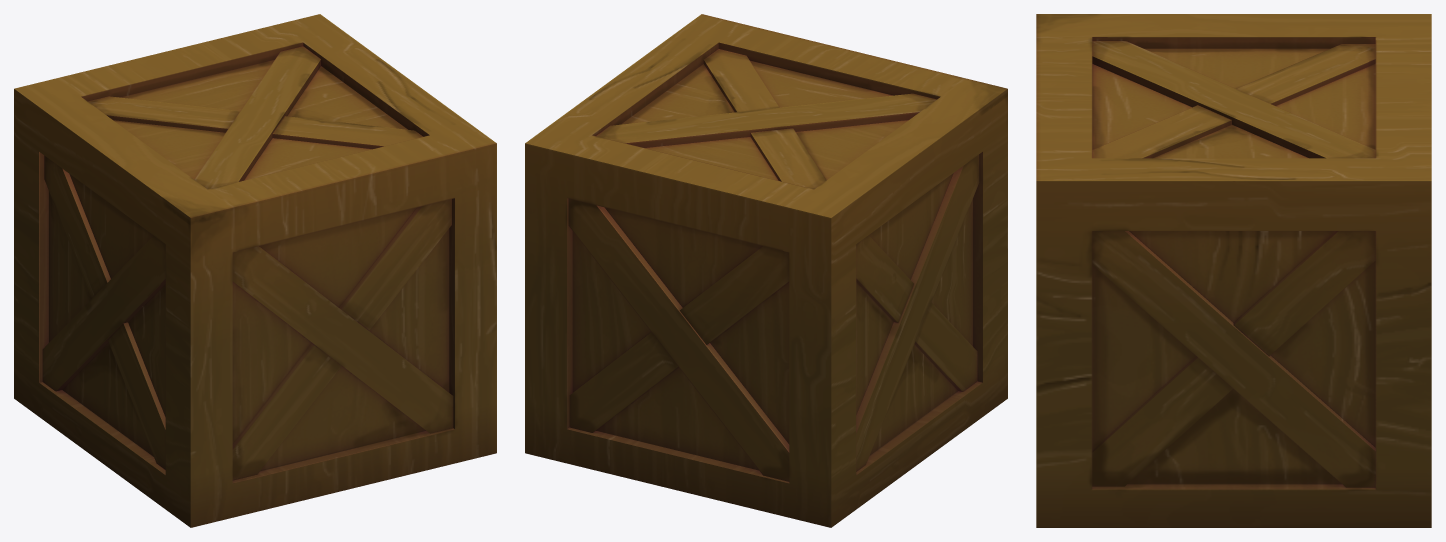
File: Crate.glb
The picture shows the model from 3 angles, left to right: view 1: azimuth 30°, elevation 25°; view 2: azimuth 150°, elevation 25°; view 3: azimuth 270°, elevation 25°; orthographic projection. The views are drawn at different scales.
Parts seen in each view (by area): view 1: Crate; view 2: Crate; view 3: Crate.
Boxes of the visible parts, x1=… form: Crate: x1=14, y1=14, x2=496, y2=527; Crate: x1=525, y1=14, x2=1007, y2=527; Crate: x1=1036, y1=14, x2=1431, y2=527.
Bounding box in the file's own units: 0.617 × 0.597 × 0.617.
1 material, 1 textured.
